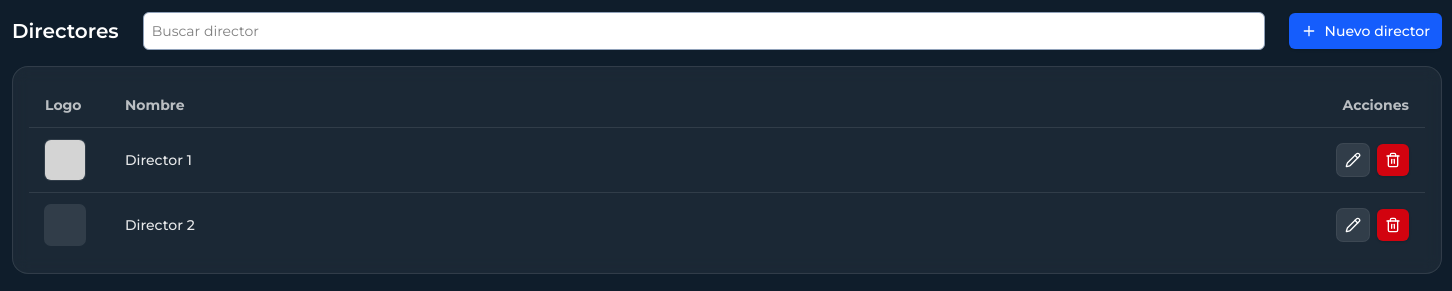
Scenario: DirectorsPage › filters directors by search term
Expected: the text "Director 1" is shown, [125,151,192,169]
Type "Director 1" into the field with placeholder "Buscar director" at (704, 31), box [143,12,1265,50]
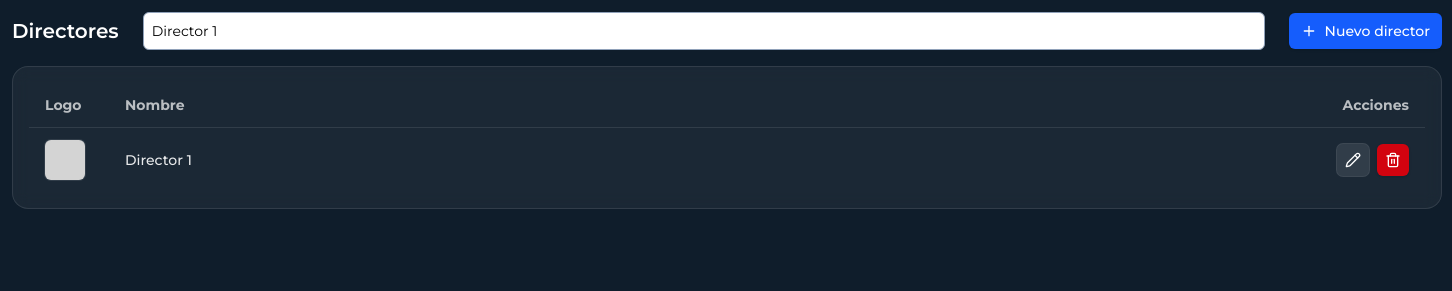
Expected: the text "Director 1" is shown, [125,151,192,169]
Expected: the text "Director 2" is gone
